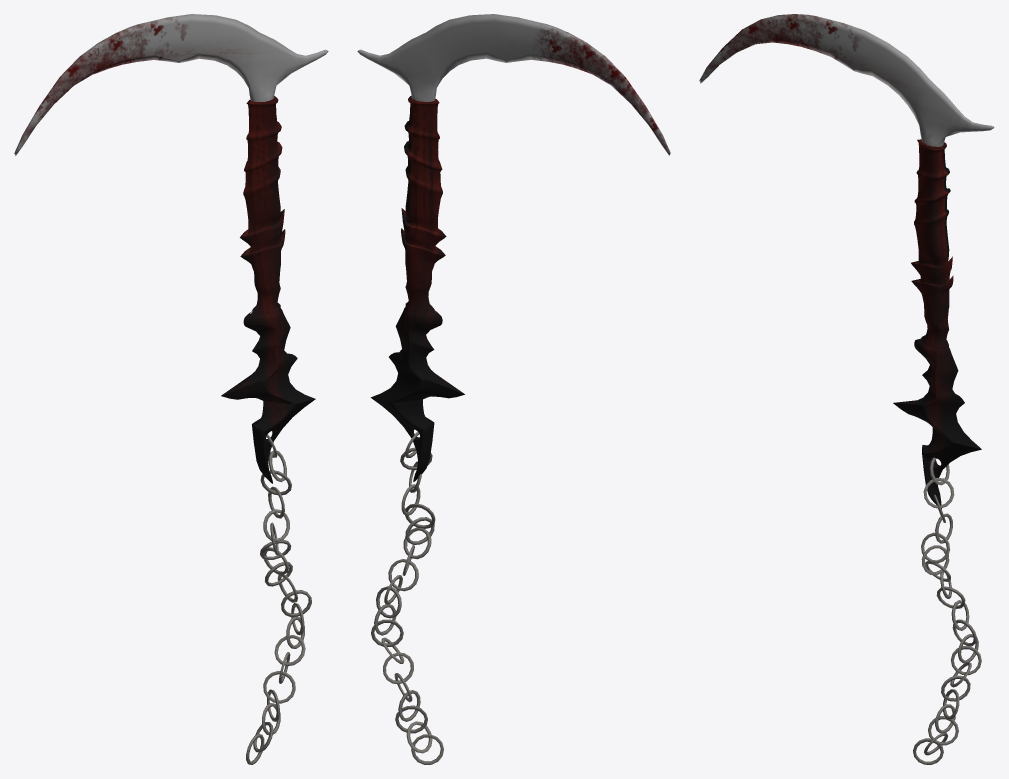
Rendered from kusarigama__capcom_hack_n_slash_inspired_asset.glb.
3 renders of one model, left to right at view 1: azimuth 30°, elevation 25°; view 2: azimuth 150°, elevation 25°; view 3: azimuth 330°, elevation 25°, orthographic. The views are drawn at different scales.
Visible parts, largest first — view 1: polySurface664; view 2: polySurface664; view 3: polySurface664.
Part boxes in pixels (left/top/right/bottom): polySurface664: left=14, top=14, right=328, bottom=764; polySurface664: left=357, top=14, right=670, bottom=764; polySurface664: left=699, top=14, right=994, bottom=764.
Size of the model in its own units: 7.02 by 16.47 by 0.8625.
6 materials, 6 textured.
